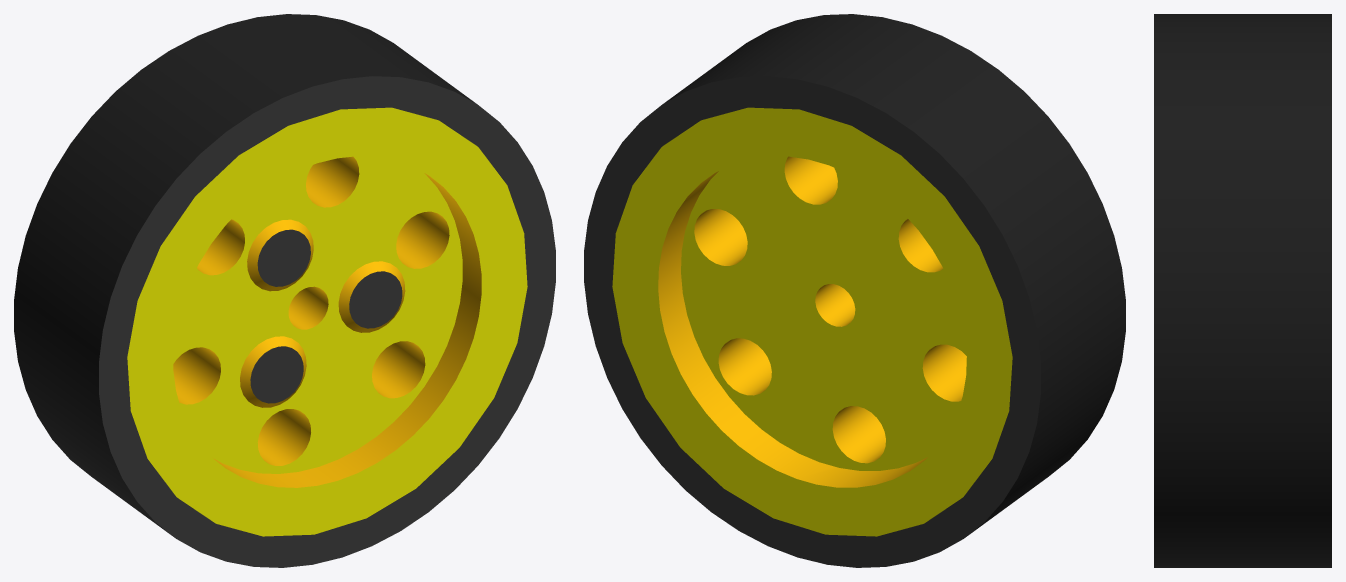
The model's file is wheel_right.dae.
The picture shows the model from 3 angles, left to right: view 1: azimuth 30°, elevation 25°; view 2: azimuth 150°, elevation 25°; view 3: azimuth 270°, elevation 25°; orthographic projection. The views are drawn at different scales.
Parts seen in each view (by area): view 1: Component_5 (×18); view 2: Component_5 (×12); view 3: Component_5.
Boxes of the visible parts, <box> form: Component_5 (×18): <box>14,14,555,567</box>; Component_5 (×12): <box>584,14,1125,567</box>; Component_5: <box>1154,14,1331,567</box>.
Size of the model in its own units: 2.69 by 0.8661 by 2.69.
